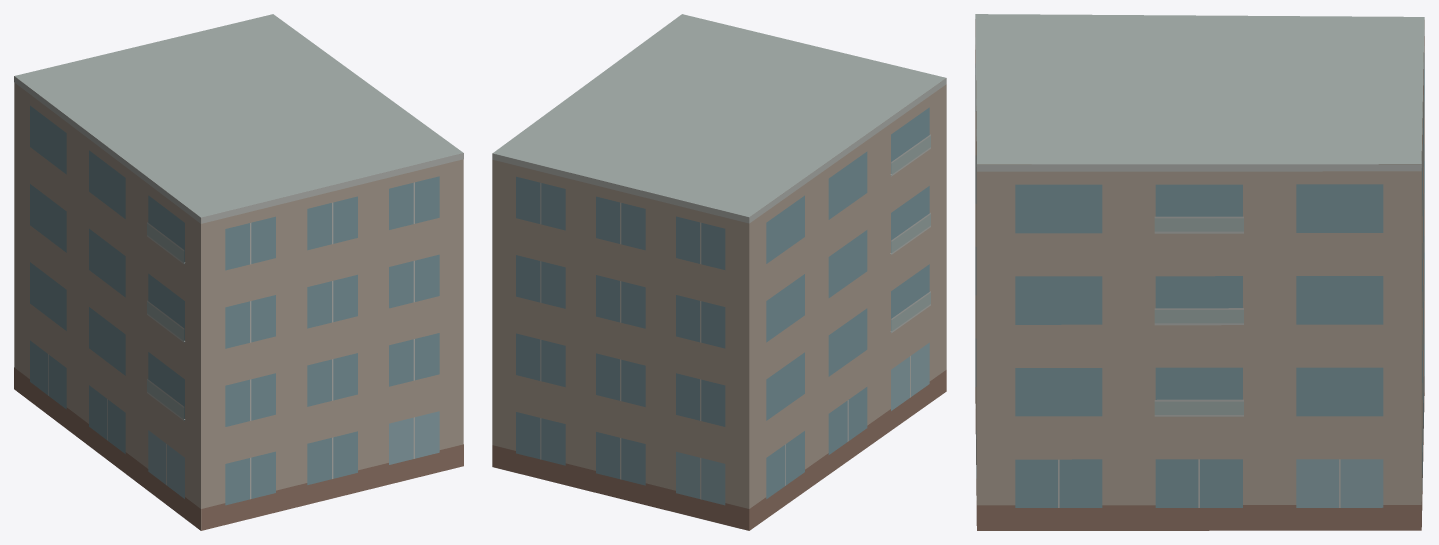
File: survey-upis-32765338.glb
3 renders of one model, left to right at view 1: azimuth 30°, elevation 25°; view 2: azimuth 150°, elevation 25°; view 3: azimuth 270°, elevation 25°, orthographic. The views are drawn at different scales.
Visible parts, largest first — view 1: survey-upis-32765338.tmp; view 2: survey-upis-32765338.tmp; view 3: survey-upis-32765338.tmp.
Boxes of the visible parts, x1,y1,x2,y2 form: survey-upis-32765338.tmp: (14,14,463,530); survey-upis-32765338.tmp: (492,14,946,530); survey-upis-32765338.tmp: (975,14,1424,530).
Size of the model in its own units: 10.79 by 12.2 by 13.56.
